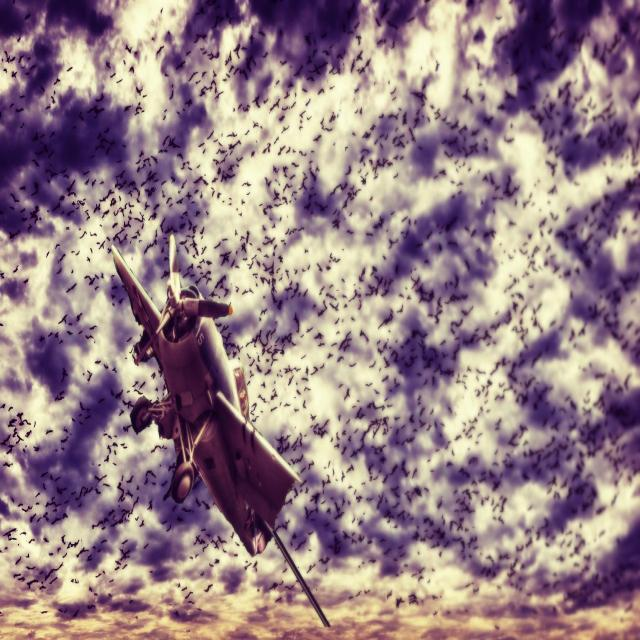airplane: (109, 232, 331, 628)
